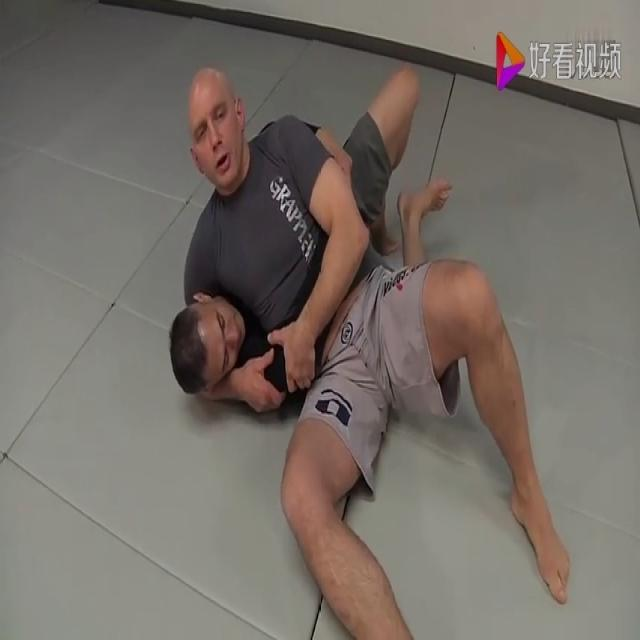fight: (146, 34, 588, 638)
